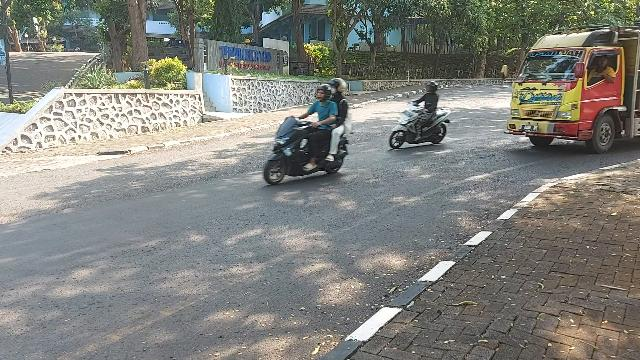helm: (330, 79, 346, 95), (317, 86, 331, 103), (428, 82, 440, 92)
motor: (265, 117, 349, 185), (391, 95, 451, 150)
